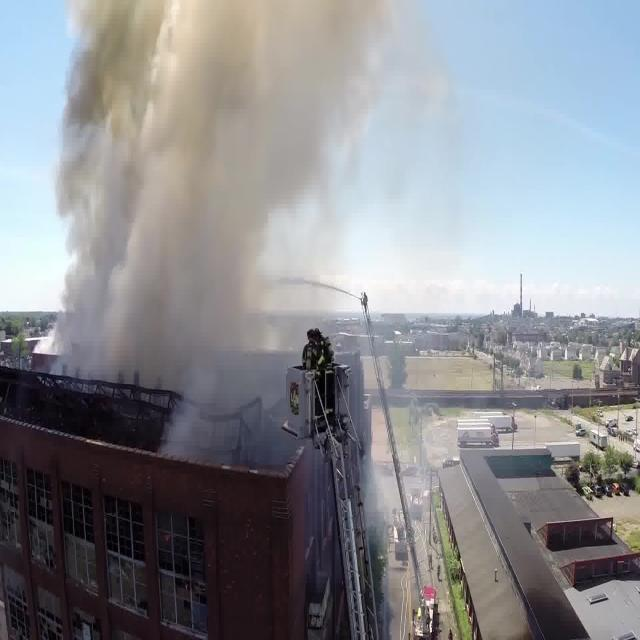Smoke: (62, 4, 348, 382)
